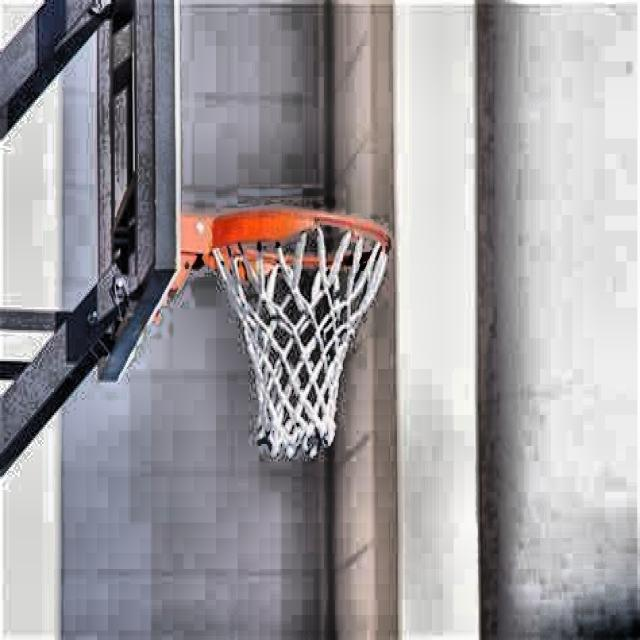rim: (211, 212, 390, 456)
